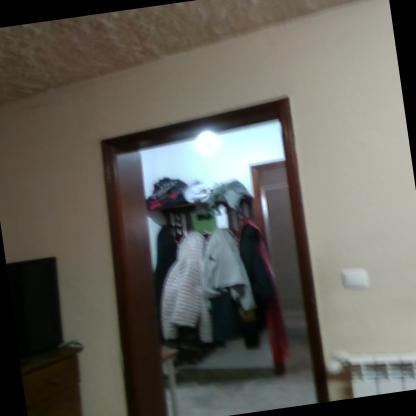open: (77, 81, 339, 415)
